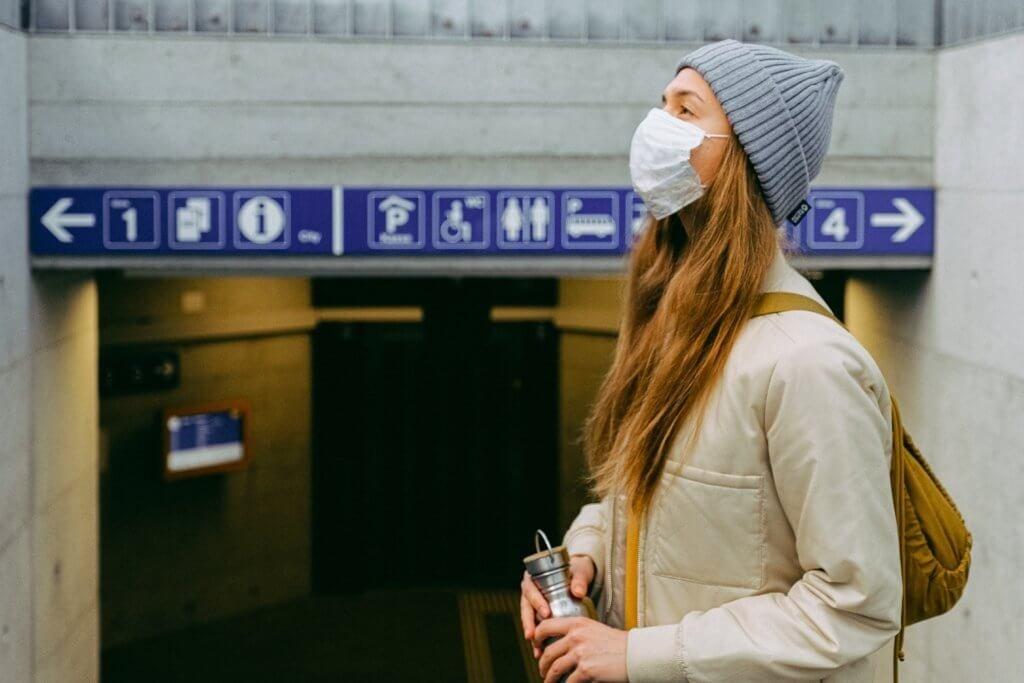face_with_mask: (623, 37, 838, 219)
